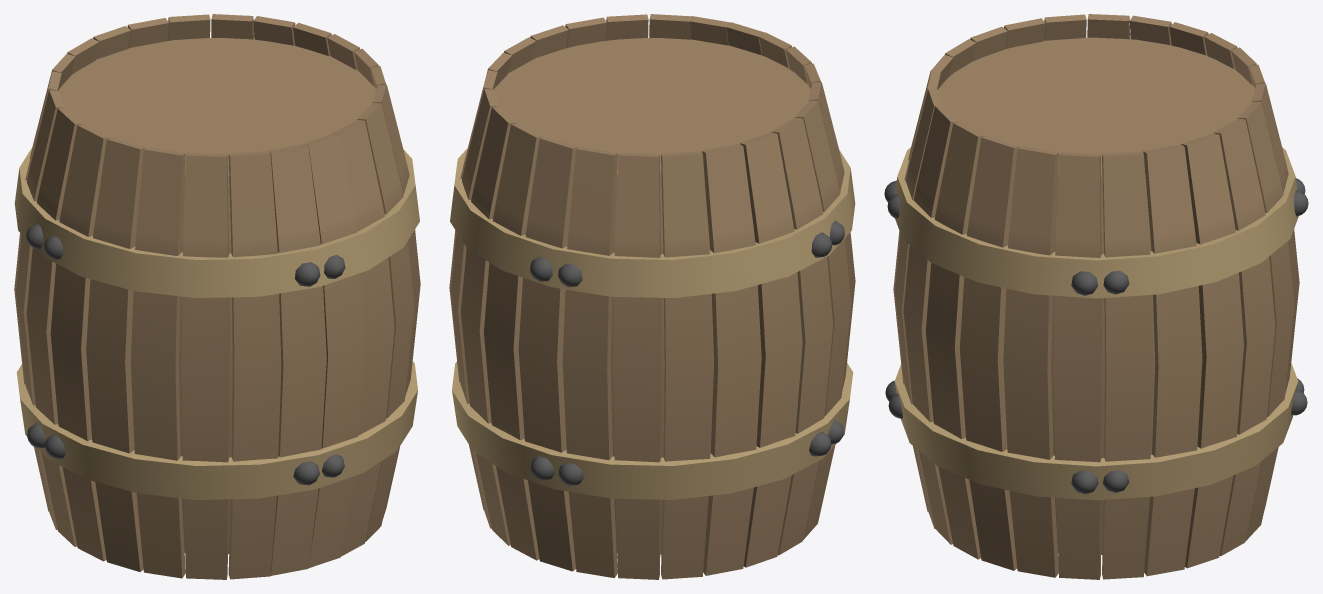
The model's file is varil.fbx.
The picture shows the model from 3 angles, left to right: view 1: azimuth 30°, elevation 25°; view 2: azimuth 150°, elevation 25°; view 3: azimuth 270°, elevation 25°; orthographic projection.
Parts seen in each view (by area): view 1: varil; view 2: varil; view 3: varil.
Boxes of the visible parts, box(x1,y1,x2,y2) form: varil: box(14, 14, 420, 579); varil: box(449, 14, 855, 579); varil: box(884, 14, 1308, 579).
Size of the model in its own units: 6.91 by 7.61 by 6.91.
